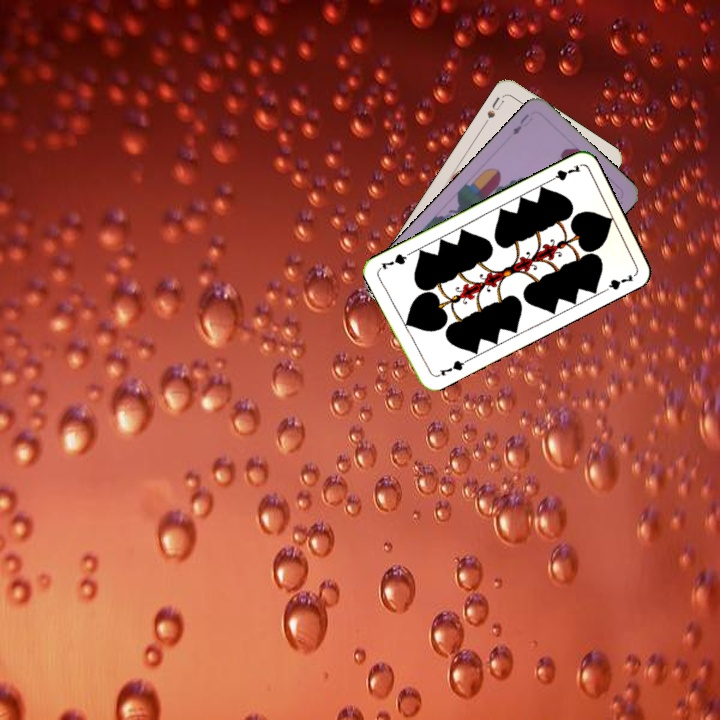EU: (508, 109, 535, 138)
G7: (544, 161, 583, 185), (432, 356, 470, 380)
SU: (480, 93, 507, 128)
